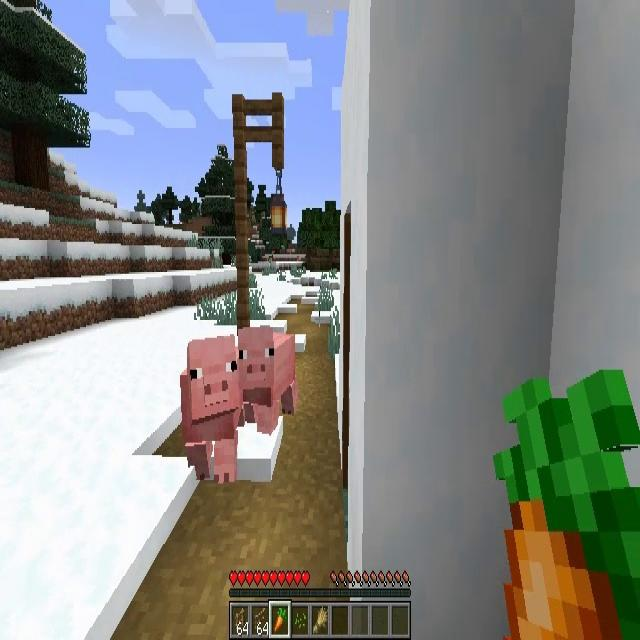pig: (179, 337, 244, 485), (239, 324, 297, 434)
